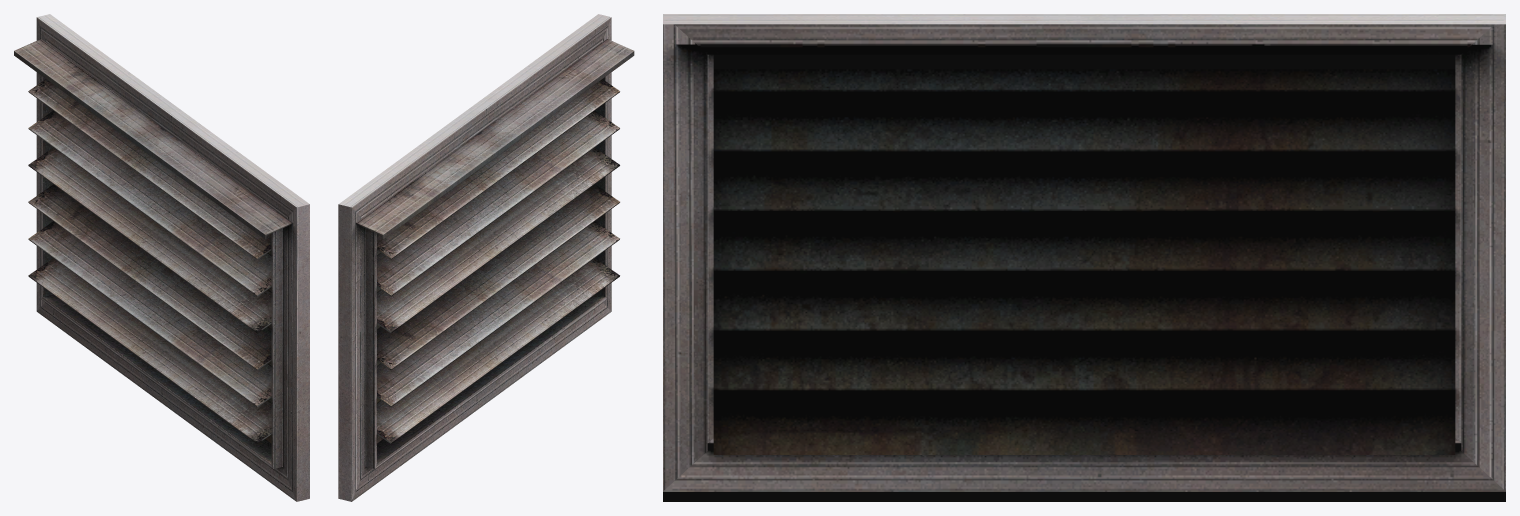
Rendered from window08.glb.
3 renders of one model, left to right at view 1: azimuth 30°, elevation 25°; view 2: azimuth 150°, elevation 25°; view 3: azimuth 270°, elevation 25°, orthographic. The views are drawn at different scales.
Parts seen in each view (by area): view 1: window08; view 2: window08; view 3: window08.
Boxes of the visible parts, x1,y1,x2,y2 form: window08: [14, 14, 309, 501]; window08: [338, 14, 634, 501]; window08: [663, 14, 1505, 501].
Bounding box in the file's own units: 0.0546 × 0.381 × 0.6096.
1 material, 1 textured.
